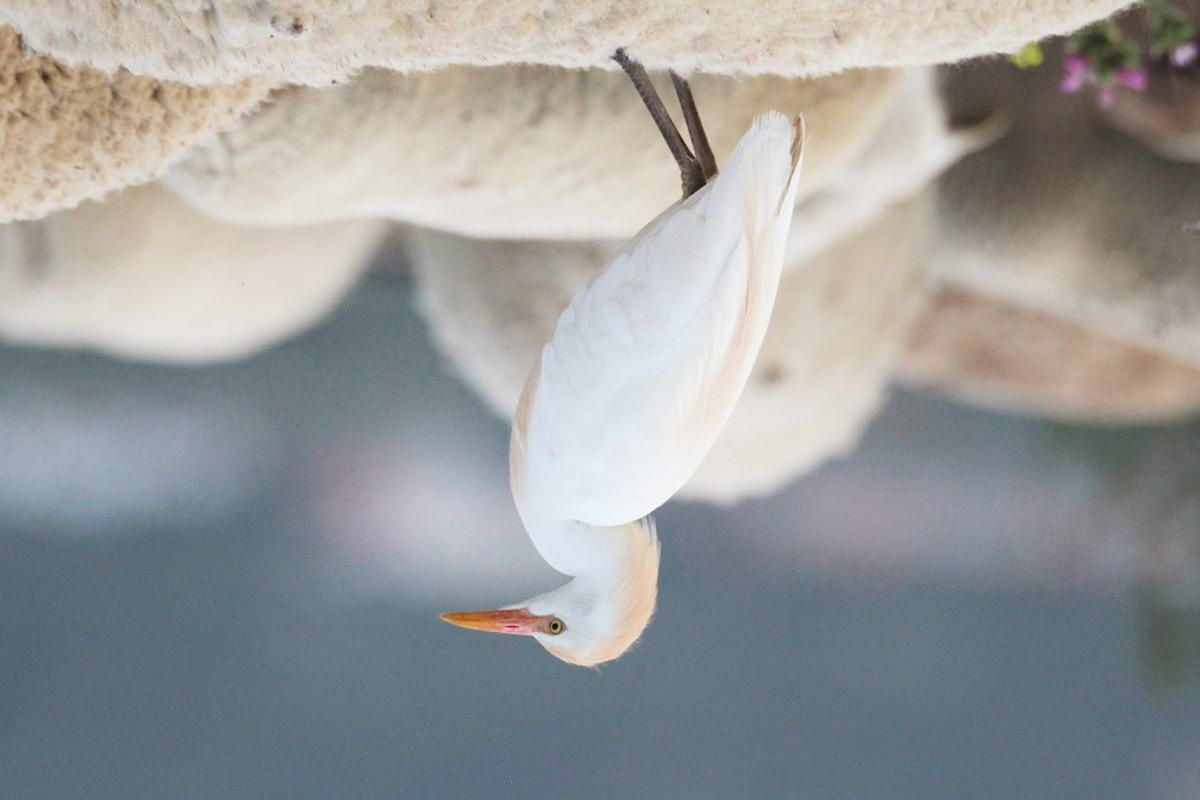egret: (436, 52, 840, 695)
